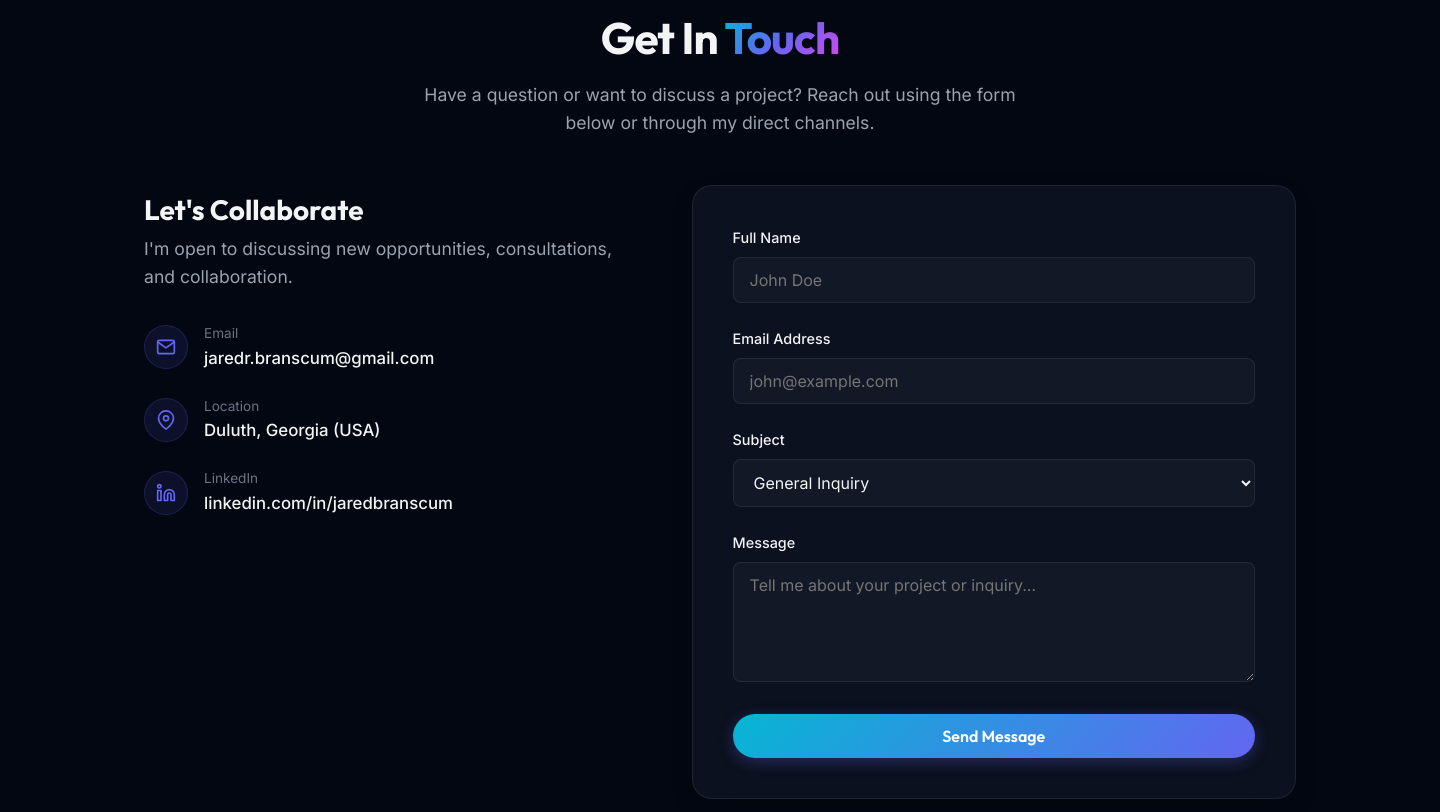
Test case: Contact Component › displays validation errors on empty submission
This screenshot has width=1440, height=812.
Click the button "Send Message" at [994, 736], box [732, 714, 1255, 758]
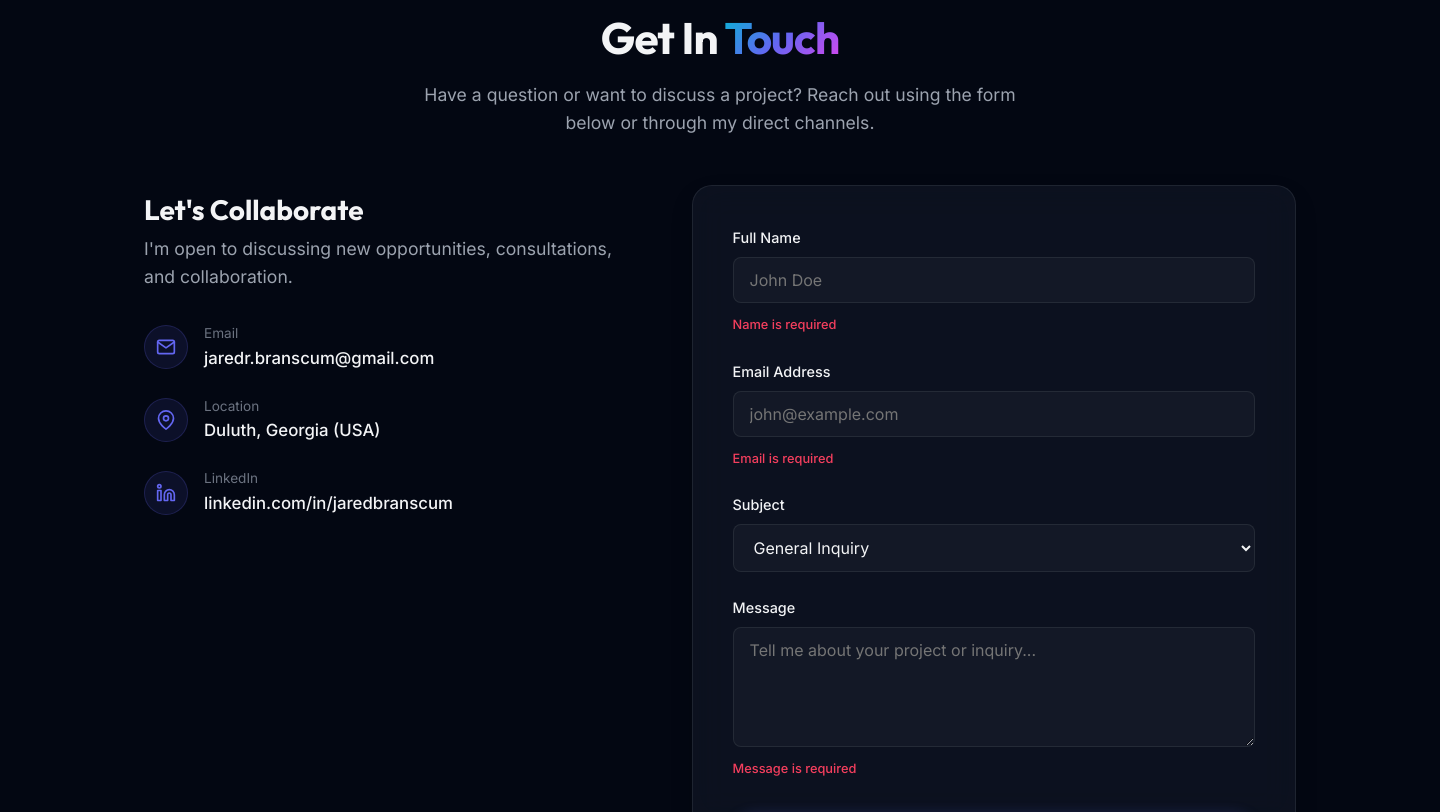
Expected: the text with test id "error-name" reads "Name is required", [732, 317, 836, 332]
Expected: the text with test id "error-email" reads "Email is required", [732, 451, 833, 466]
Expected: the text with test id "error-message" reads "Message is required", [732, 761, 856, 776]
